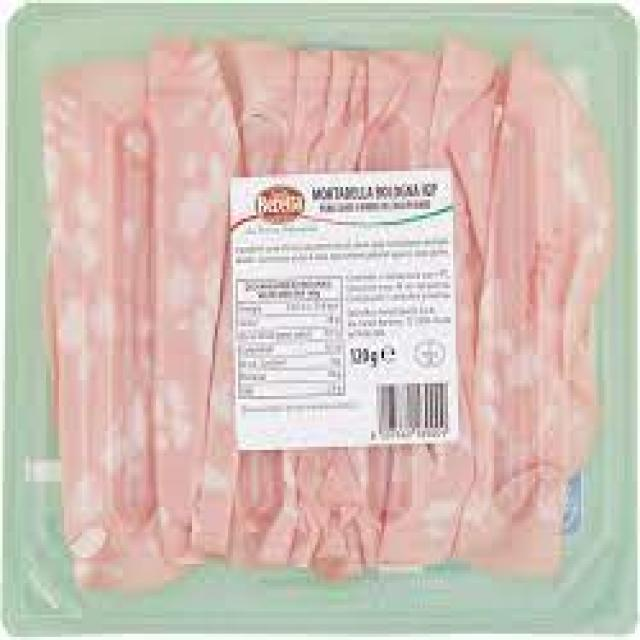ham: (5, 7, 639, 634)
